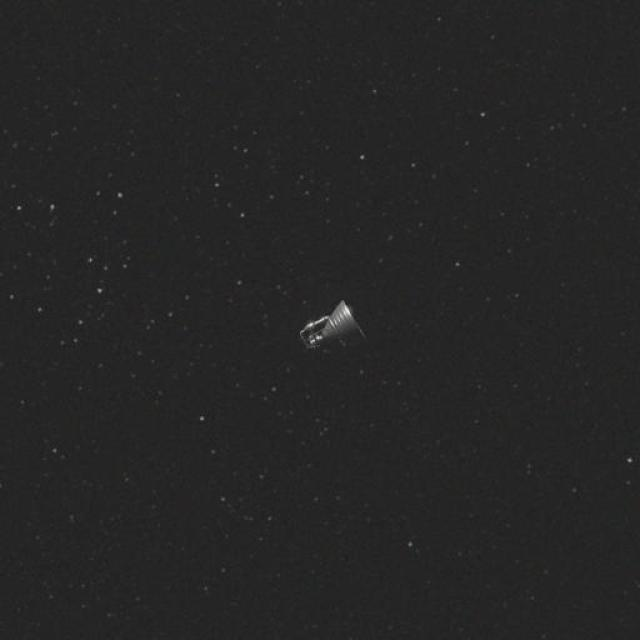debris: (287, 291, 374, 368)
